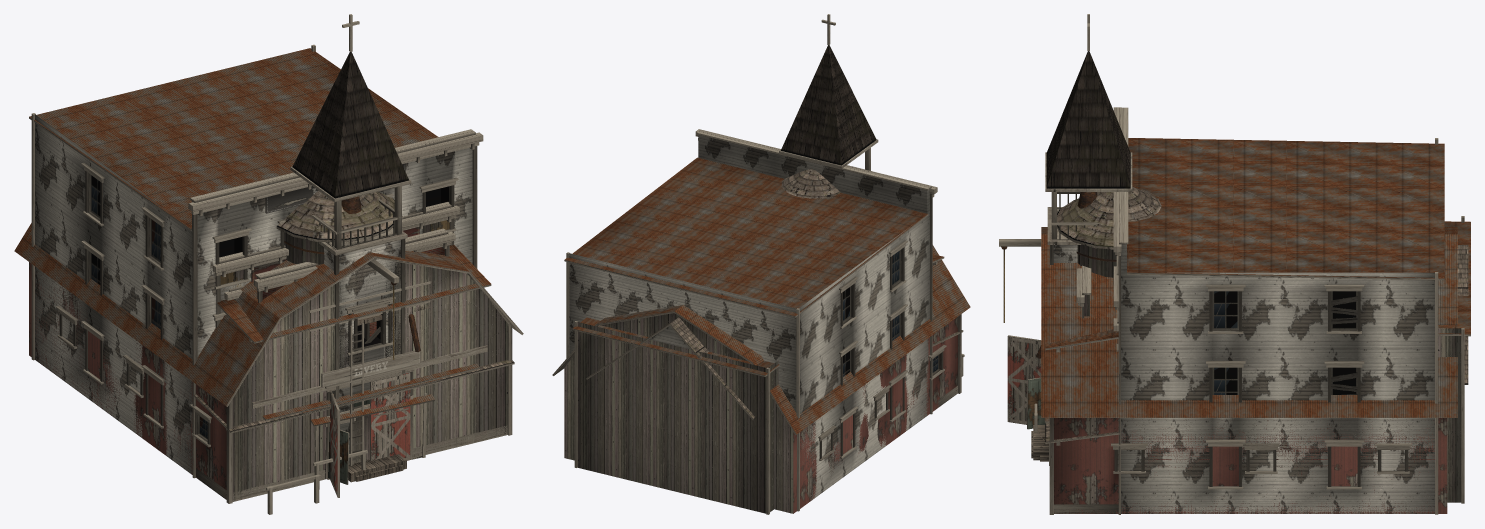
The model's file is town.glb.
The picture shows the model from 3 angles, left to right: view 1: azimuth 30°, elevation 25°; view 2: azimuth 150°, elevation 25°; view 3: azimuth 270°, elevation 25°; orthographic projection. The views are drawn at different scales.
Visible parts, largest first — view 1: Hotel, Livery, Church, Saloon, WaterTower, Bank, GeneralStore, Shack, Boardwalk, Gallows; view 2: Hotel, Saloon, Livery, Church, WaterTower; view 3: Hotel, Livery, Church, Saloon, WaterTower, Bank, Shack.
Boxes of the visible parts, <box> form: Hotel: <box>29,44,514,501</box>; Livery: <box>14,223,523,514</box>; Church: <box>290,14,411,481</box>; Saloon: <box>212,202,491,408</box>; WaterTower: <box>276,190,431,465</box>; Bank: <box>254,228,455,491</box>; GeneralStore: <box>224,286,479,492</box>; Shack: <box>311,393,434,484</box>; Boardwalk: <box>300,378,442,489</box>; Gallows: <box>326,395,413,463</box>; Hotel: <box>564,129,963,511</box>; Saloon: <box>572,255,944,514</box>; Livery: <box>552,245,970,513</box>; Church: <box>586,14,878,419</box>; WaterTower: <box>782,169,840,198</box>; Hotel: <box>1045,107,1444,514</box>; Livery: <box>999,227,1457,514</box>; Church: <box>1031,14,1468,461</box>; Saloon: <box>1045,216,1470,503</box>; WaterTower: <box>1036,186,1161,358</box>; Bank: <box>1033,265,1091,460</box>; Shack: <box>1027,377,1045,429</box>.
Size of the model in its own units: 12.8 by 18.23 by 17.9.
Materials: 1 (1 with a texture image).
